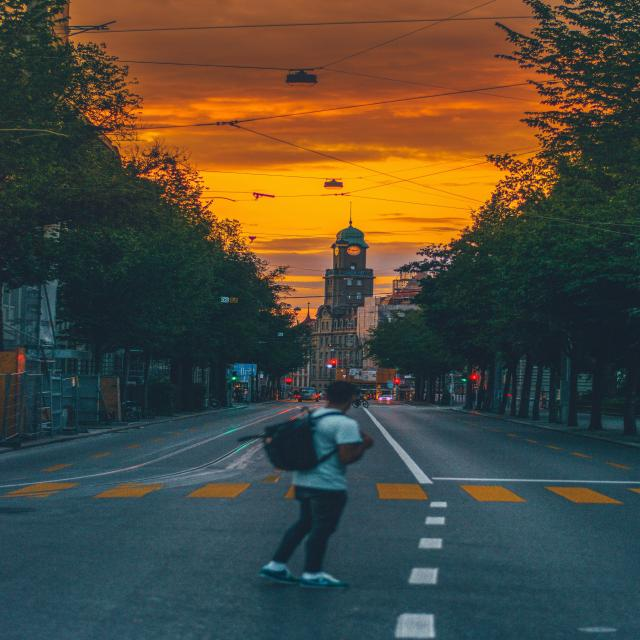adult: (250, 379, 378, 589)
